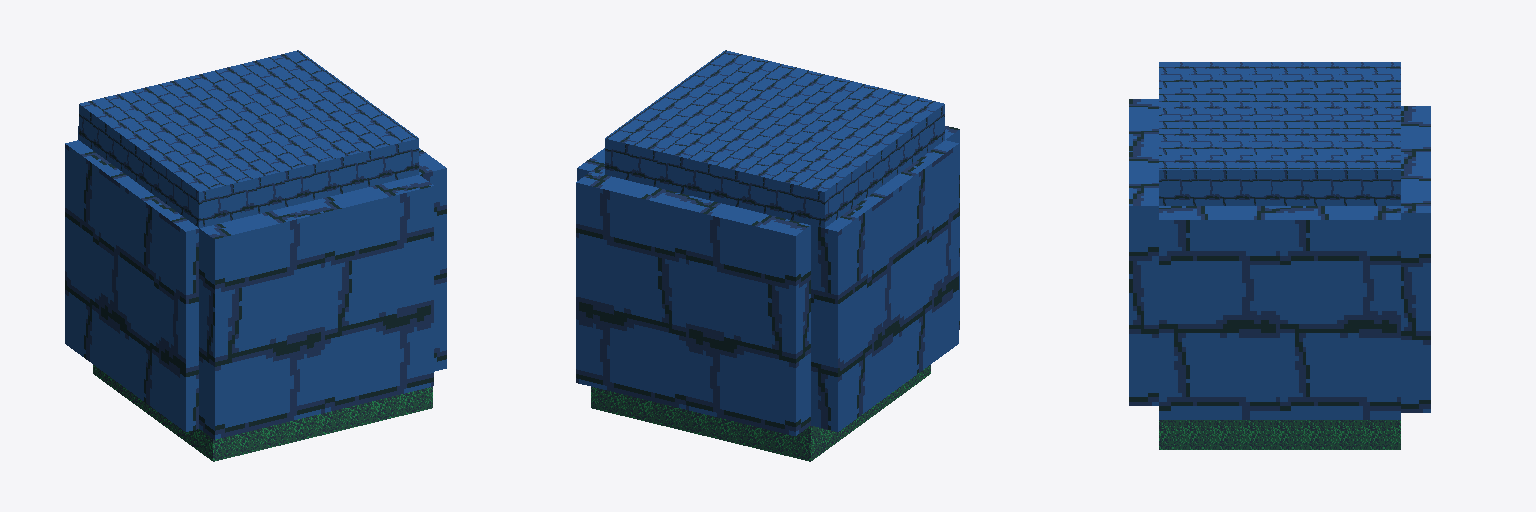
3 renders of one model, left to right at view 1: azimuth 30°, elevation 25°; view 2: azimuth 150°, elevation 25°; view 3: azimuth 270°, elevation 25°, orthographic.
Parts seen in each view (by area): view 1: entity0_brush3, entity0_brush4, entity0_brush1, entity0_brush0, entity0_brush5; view 2: entity0_brush2, entity0_brush4, entity0_brush1, entity0_brush0; view 3: entity0_brush5, entity0_brush4, entity0_brush2, entity0_brush3, entity0_brush0.
Part boxes in pixels (x1,y1,x2,y2): entity0_brush3: (199,175,433,439); entity0_brush4: (79,50,418,227); entity0_brush1: (65,140,198,431); entity0_brush0: (93,365,432,461); entity0_brush5: (419,148,446,371); entity0_brush2: (576,172,810,435); entity0_brush4: (605,50,944,227); entity0_brush1: (811,140,958,431); entity0_brush0: (591,365,930,461); entity0_brush5: (1159,206,1400,419); entity0_brush4: (1159,62,1400,205); entity0_brush2: (1401,106,1430,412); entity0_brush3: (1129,99,1158,405); entity0_brush0: (1159,420,1400,449).
Bounding box in the file's own units: 8 × 8 × 8.
Materials: 2 (2 with a texture image).